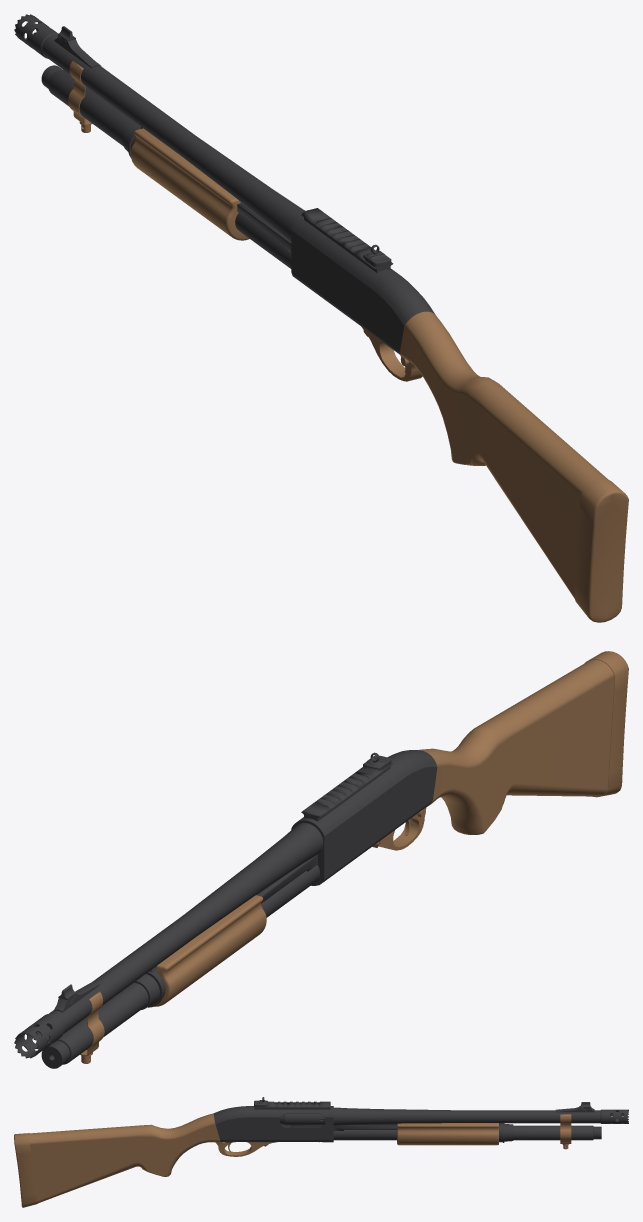
3 renders of one model, top to bottom at view 1: azimuth 30°, elevation 25°; view 2: azimuth 150°, elevation 25°; view 3: azimuth 270°, elevation 25°, orthographic. The views are drawn at different scales.
Parts seen in each view (by area): view 1: body, pump; view 2: body, pump; view 3: body, pump.
Part boxes in pixels (x1,y1,x2,y2): body: [14, 14, 628, 622]; pump: [130, 128, 291, 252]; body: [14, 651, 628, 1068]; pump: [154, 854, 317, 1006]; body: [14, 1097, 628, 1207]; pump: [290, 1123, 498, 1145].
Bounding box in the file's own units: 0.0423 × 0.2079 × 1.06.
